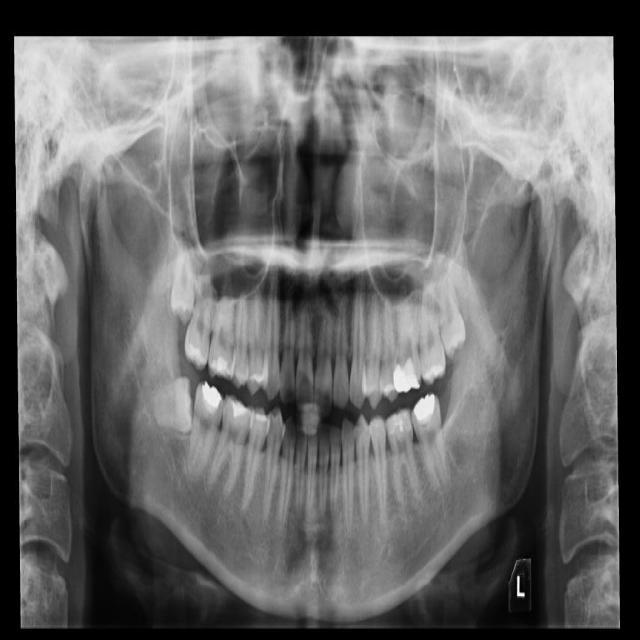3M ESPE Implant: (169, 239, 199, 325)
52: (210, 391, 263, 442), (406, 391, 447, 437), (191, 381, 226, 432), (382, 404, 417, 447), (390, 351, 424, 393), (205, 339, 239, 380), (183, 328, 210, 372)
73: (566, 510, 576, 540)
BioHorizons Implant: (415, 268, 447, 386)
BioLife Implant: (431, 260, 469, 361)
Blue Sky Bio Implant: (408, 391, 450, 495)
Caries: (182, 259, 218, 372)
Implant: (184, 379, 228, 483)
Keystone Dental Implant: (150, 376, 196, 437)
